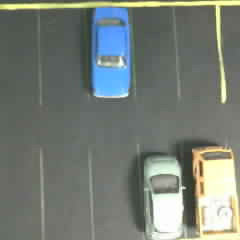Car: (85, 3, 136, 103), (189, 146, 239, 239), (137, 148, 187, 239)
